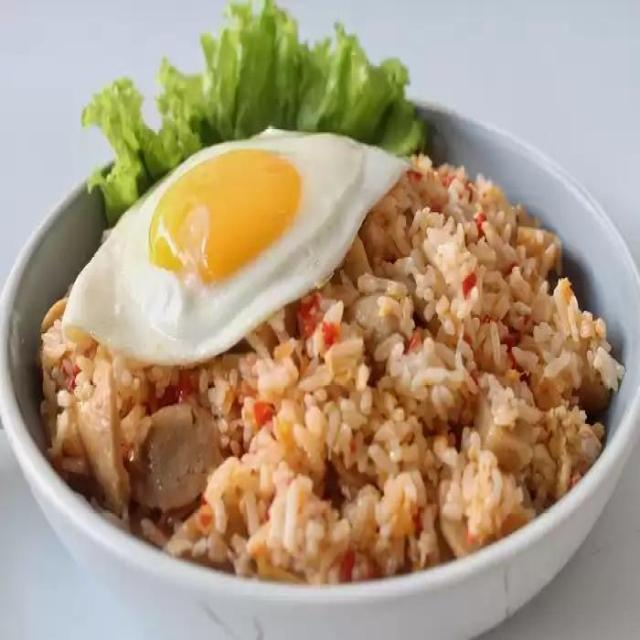Nasi Goreng: (92, 161, 595, 543)
